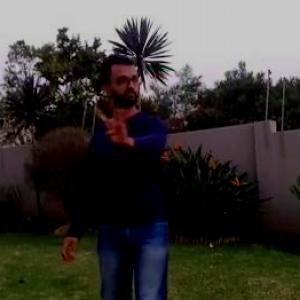takeoff-hand: (90, 104, 138, 156)
